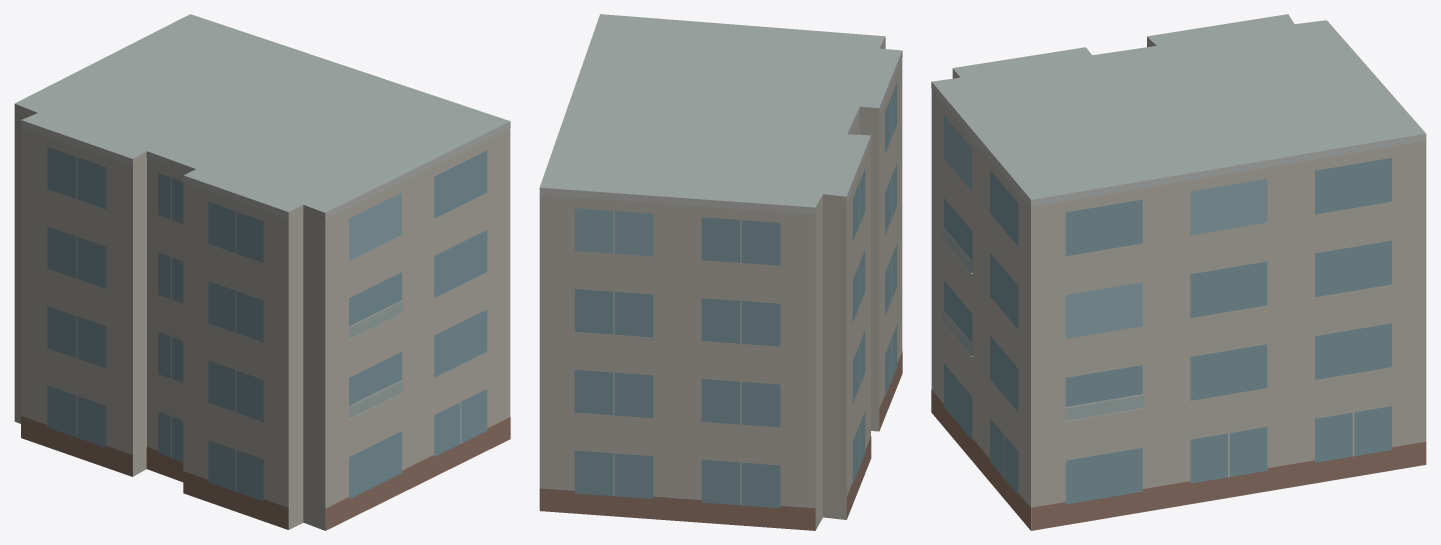
The model's file is survey-upis-32857430.glb.
3 views of the same model, side by side, from view 1: azimuth 30°, elevation 25°; view 2: azimuth 150°, elevation 25°; view 3: azimuth 270°, elevation 25° (orthographic). The views are drawn at different scales.
Visible parts, largest first — view 1: survey-upis-32857430.tmp; view 2: survey-upis-32857430.tmp; view 3: survey-upis-32857430.tmp.
Boxes of the visible parts, x1=… form: survey-upis-32857430.tmp: x1=14, y1=14, x2=510, y2=530; survey-upis-32857430.tmp: x1=539, y1=14, x2=902, y2=530; survey-upis-32857430.tmp: x1=931, y1=14, x2=1426, y2=530.
Bounding box in the file's own units: 13.5 × 11.2 × 15.18.
